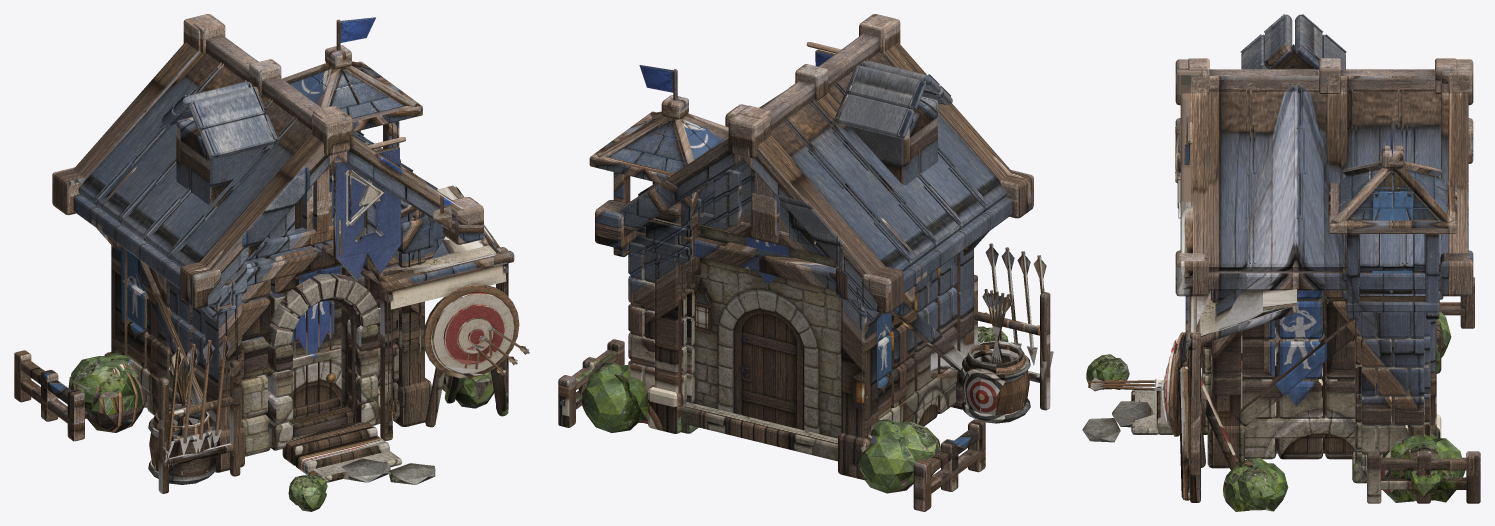
Rendered from archery_range.glb.
The picture shows the model from 3 angles, left to right: view 1: azimuth 30°, elevation 25°; view 2: azimuth 150°, elevation 25°; view 3: azimuth 270°, elevation 25°; orthographic projection. The views are drawn at different scales.
Visible parts, largest first — view 1: Carved roof verge, Cloth heraldic banner, Linen work canopy, Carved roof verge.002, Dormer body, Carved roof verge.001, Corner upright, Ridge timber, Leaf cluster.004, Roof eave, Target ring.006, Corner upright.002 (+82 smaller); view 2: Cottage walls, Carved roof verge.001, Corner upright.001, Corner upright.003, Wall cross beam.001, Carved roof verge.003, Dormer body, Wall cross beam.003, Open barrel staves.001, Ridge timber, Leaf cluster.007, Leaf cluster.011 (+62 smaller); view 3: Ridge timber, Carved roof verge.002, Roof eave.001, Carved roof verge.003, Linen work canopy, Soft edged blue roof tile.037, Corner upright.002, Side wall diagonal.001, Soft edged blue roof tile.036, Soft edged blue roof tile.027, Soft edged blue roof tile.032, Soft edged blue roof tile.028 (+79 smaller).
Part boxes in pixels (<box>): Carved roof verge: <box>199,134,338,288</box>; Cloth heraldic banner: <box>333,146,401,280</box>; Linen work canopy: <box>382,185,506,309</box>; Carved roof verge.002: <box>337,136,462,233</box>; Dormer body: <box>176,117,262,204</box>; Carved roof verge.001: <box>73,42,199,178</box>; Corner upright: <box>205,294,241,430</box>; Ridge timber: <box>206,35,322,129</box>; Leaf cluster.004: <box>87,371,146,432</box>; Roof eave: <box>73,194,180,288</box>; Target ring.006: <box>431,293,514,373</box>; Corner upright.002: <box>395,201,424,387</box>; Cottage walls: <box>690,225,841,438</box>; Carved roof verge.001: <box>743,136,884,292</box>; Corner upright.001: <box>841,298,878,437</box>; Corner upright.003: <box>655,203,685,393</box>; Wall cross beam.001: <box>681,402,837,461</box>; Carved roof verge.003: <box>617,138,744,236</box>; Dormer body: <box>850,96,937,185</box>; Wall cross beam.003: <box>694,234,836,290</box>; Open barrel staves.001: <box>962,350,1029,423</box>; Ridge timber: <box>734,34,879,146</box>; Leaf cluster.007: <box>856,431,914,493</box>; Leaf cluster.011: <box>582,374,640,432</box>; Ridge timber: <box>1209,69,1434,93</box>; Carved roof verge.002: <box>1180,93,1207,253</box>; Roof eave.001: <box>1208,270,1440,290</box>; Carved roof verge.003: <box>1441,93,1468,253</box>; Linen work canopy: <box>1187,289,1297,364</box>; Soft edged blue roof tile.037: <box>1252,214,1302,270</box>; Corner upright.002: <box>1212,290,1242,425</box>; Side wall diagonal.001: <box>1235,319,1354,426</box>; Soft edged blue roof tile.036: <box>1207,214,1252,270</box>; Soft edged blue roof tile.027: <box>1252,124,1302,176</box>; Soft edged blue roof tile.032: <box>1248,169,1298,221</box>; Soft edged blue roof tile.028: <box>1303,124,1353,172</box>.
Bounding box in the file's own units: 4.09 × 3.7 × 3.61.
5 materials, 5 textured.
